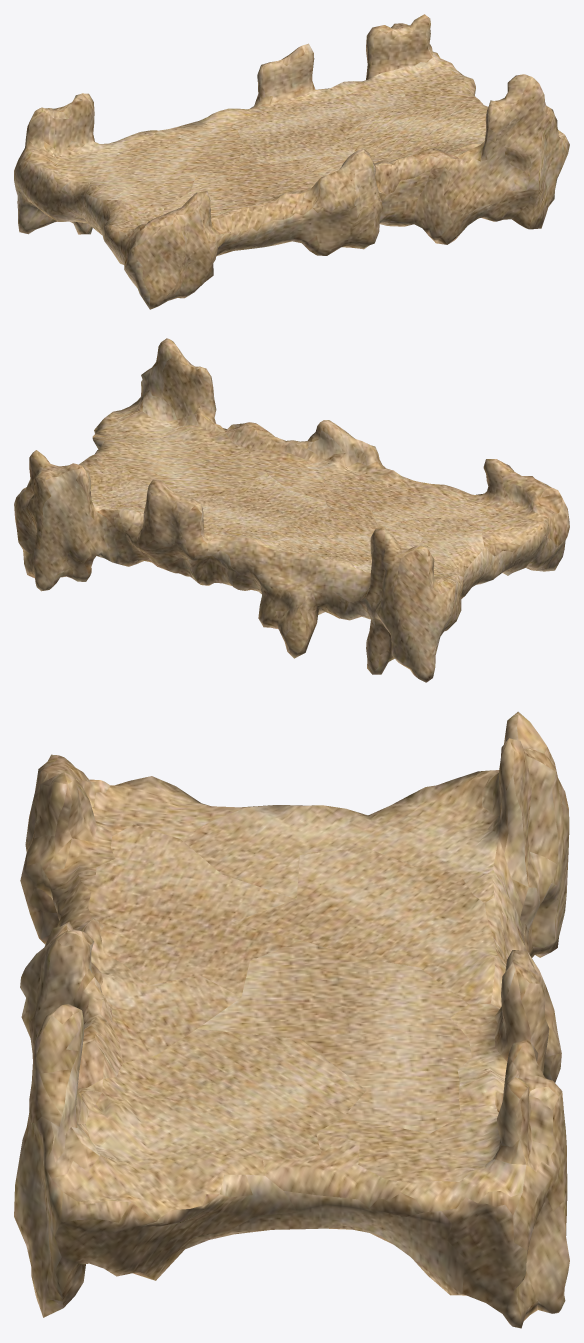
The model's file is plataforma_1.obj.
3 renders of one model, top to bottom at view 1: azimuth 30°, elevation 25°; view 2: azimuth 150°, elevation 25°; view 3: azimuth 270°, elevation 25°, orthographic. The views are drawn at different scales.
Visible parts, largest first — view 1: plataforma_1_plataforma; view 2: plataforma_1_plataforma; view 3: plataforma_1_plataforma.
Boxes of the visible parts, box(x1,y1,x2,y2) form: plataforma_1_plataforma: box(14, 14, 569, 309); plataforma_1_plataforma: box(14, 338, 569, 682); plataforma_1_plataforma: box(14, 711, 569, 1328).
Bounding box in the file's own units: 4.73 × 1.7 × 2.6.
1 material, 1 textured.
